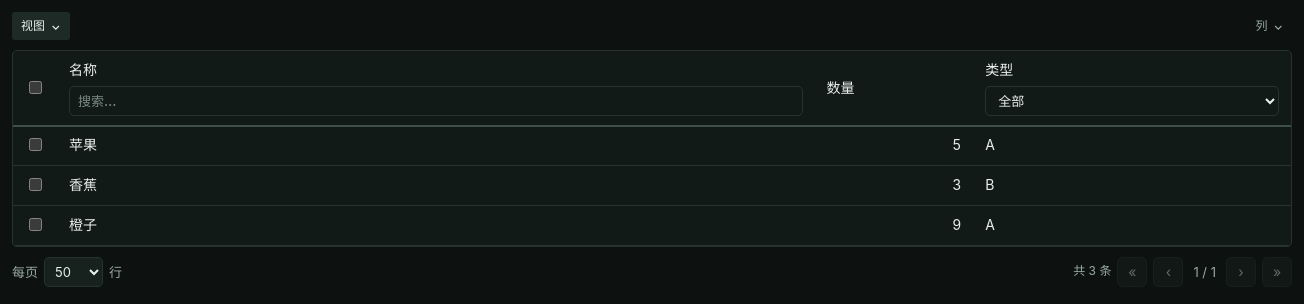
Test case: DataTable client mode › filters by a select column
Select "B类" in the 1st dropdown at (1132, 101), box [985, 86, 1279, 116]
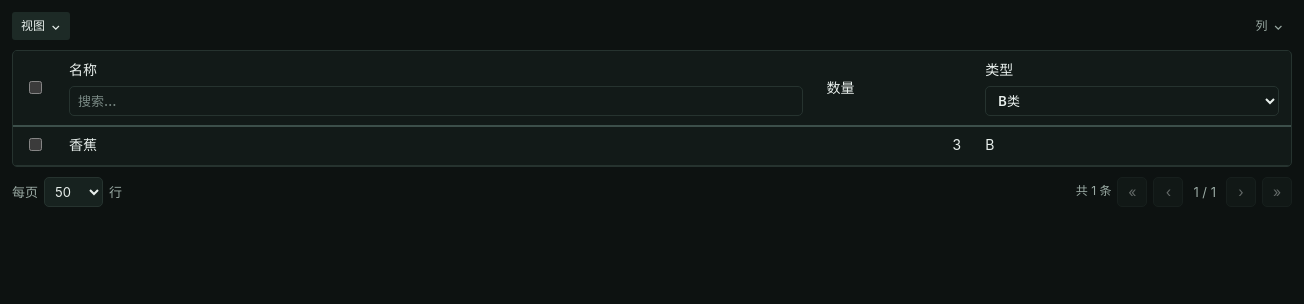
Expected: the text "香蕉" is shown, [57, 126, 814, 166]
Now the text "苹果" is gone
Now the text "橙子" is gone
